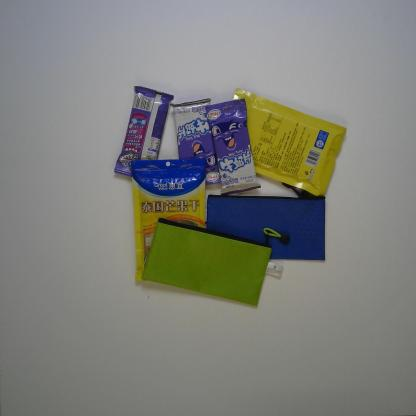Candy: (113, 86, 174, 178), (205, 98, 261, 197), (170, 98, 221, 187)
Dried Fruit: (229, 87, 347, 197), (130, 158, 207, 282)
Stationery: (140, 216, 291, 307), (206, 181, 326, 261)
